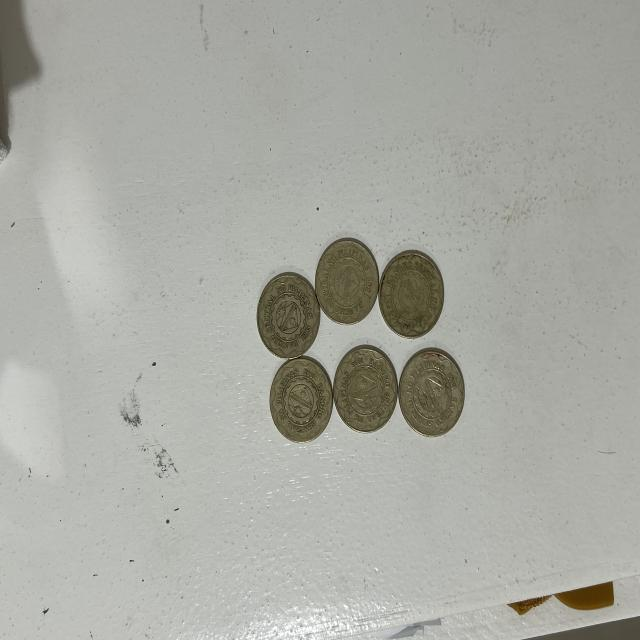5_Old_Back: (252, 270, 323, 360), (334, 345, 399, 438), (404, 348, 467, 440), (381, 248, 444, 338), (272, 352, 330, 444), (316, 238, 376, 322)
